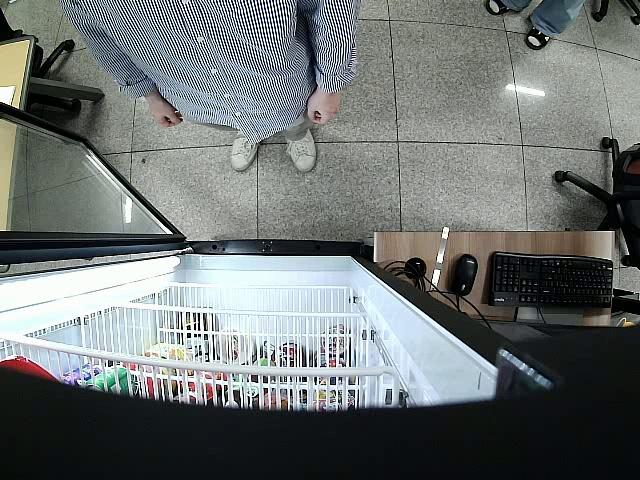00_hand: (307, 93, 341, 125), (149, 101, 184, 128)
